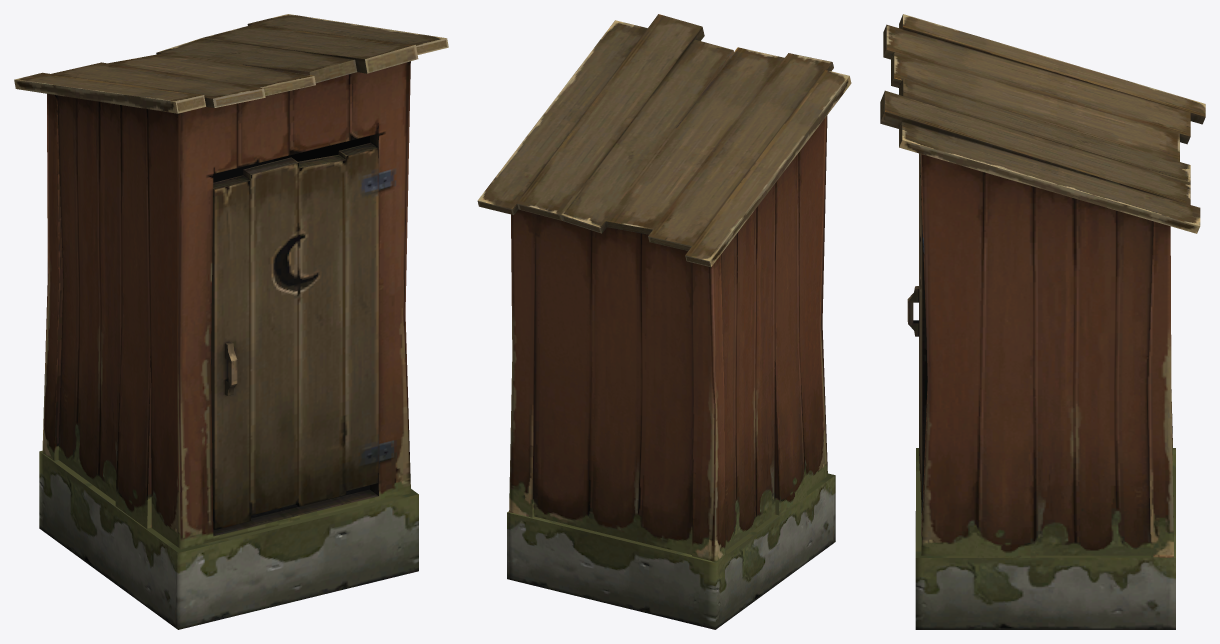
Rendered from outhouse.fbx.
3 views of the same model, side by side, from view 1: azimuth 30°, elevation 25°; view 2: azimuth 150°, elevation 25°; view 3: azimuth 270°, elevation 25° (orthographic). The views are drawn at different scales.
Visible parts, largest first — view 1: GEOM0_LOD0; view 2: GEOM0_LOD0; view 3: GEOM0_LOD0.
Part boxes in pixels (bbox=[...]): GEOM0_LOD0: bbox=[14, 14, 448, 629]; GEOM0_LOD0: bbox=[477, 14, 851, 629]; GEOM0_LOD0: bbox=[880, 14, 1205, 629].
Size of what is drawn, in the model's own units: 156 by 298 by 173.
